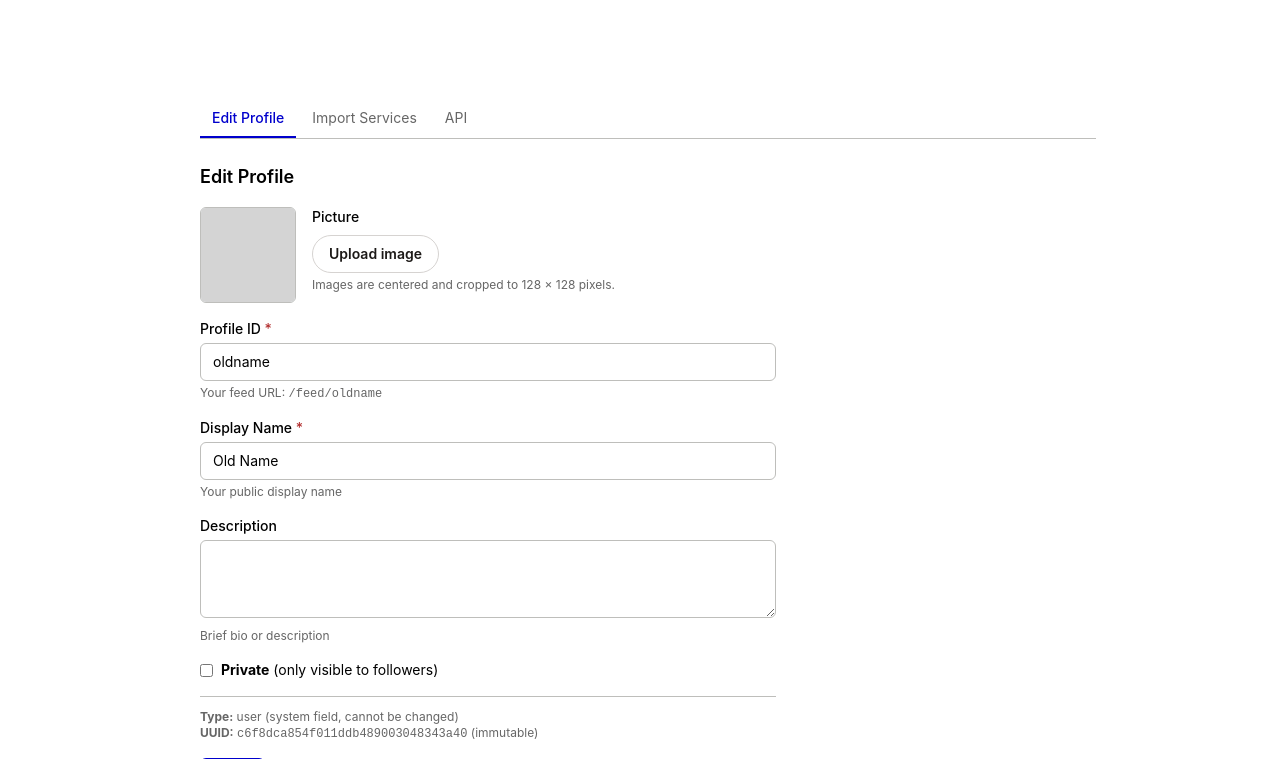
Test case: AccountApp › keeps saved profile values across tab switches
Replace the text in the field labelled "Profile ID *" with "newname" at (488, 362), box [200,343,776,381]
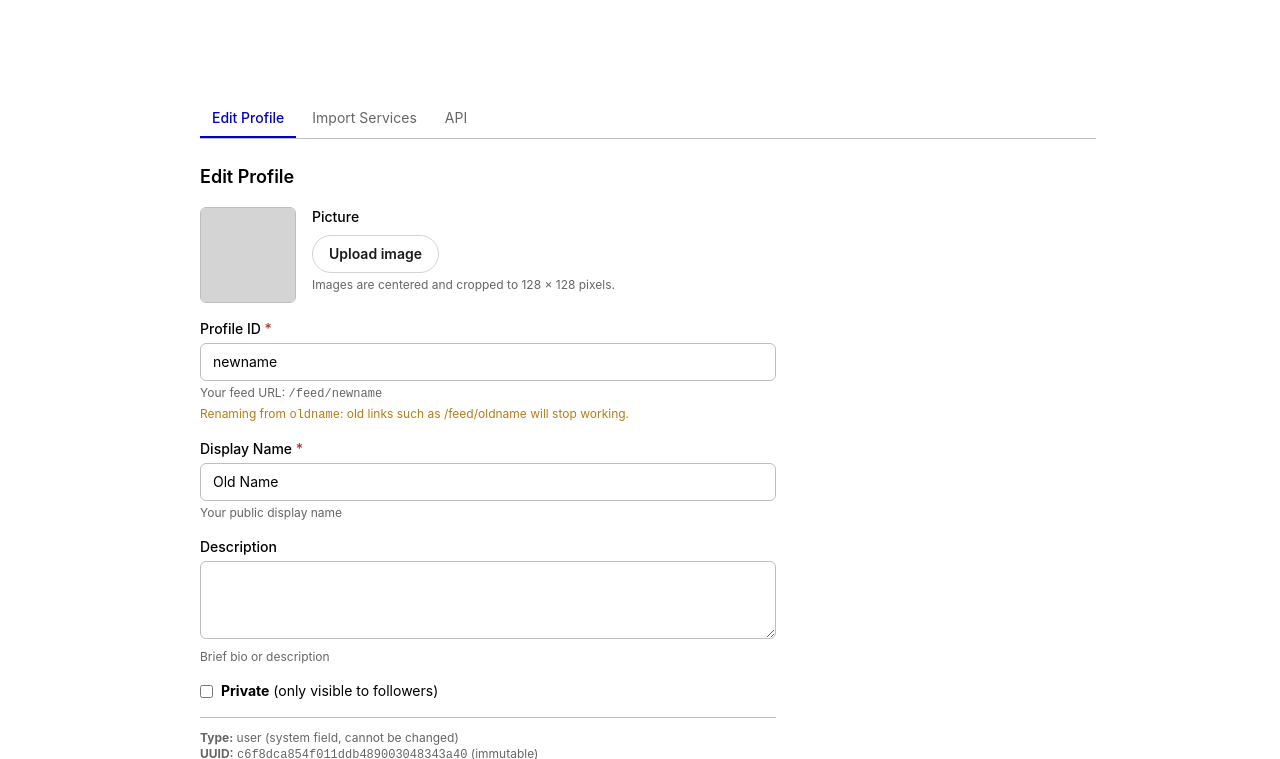
Replace the text in the field labelled "Display Name *" with "New Name" at (488, 482), box [200,463,776,501]
(page scrolled)
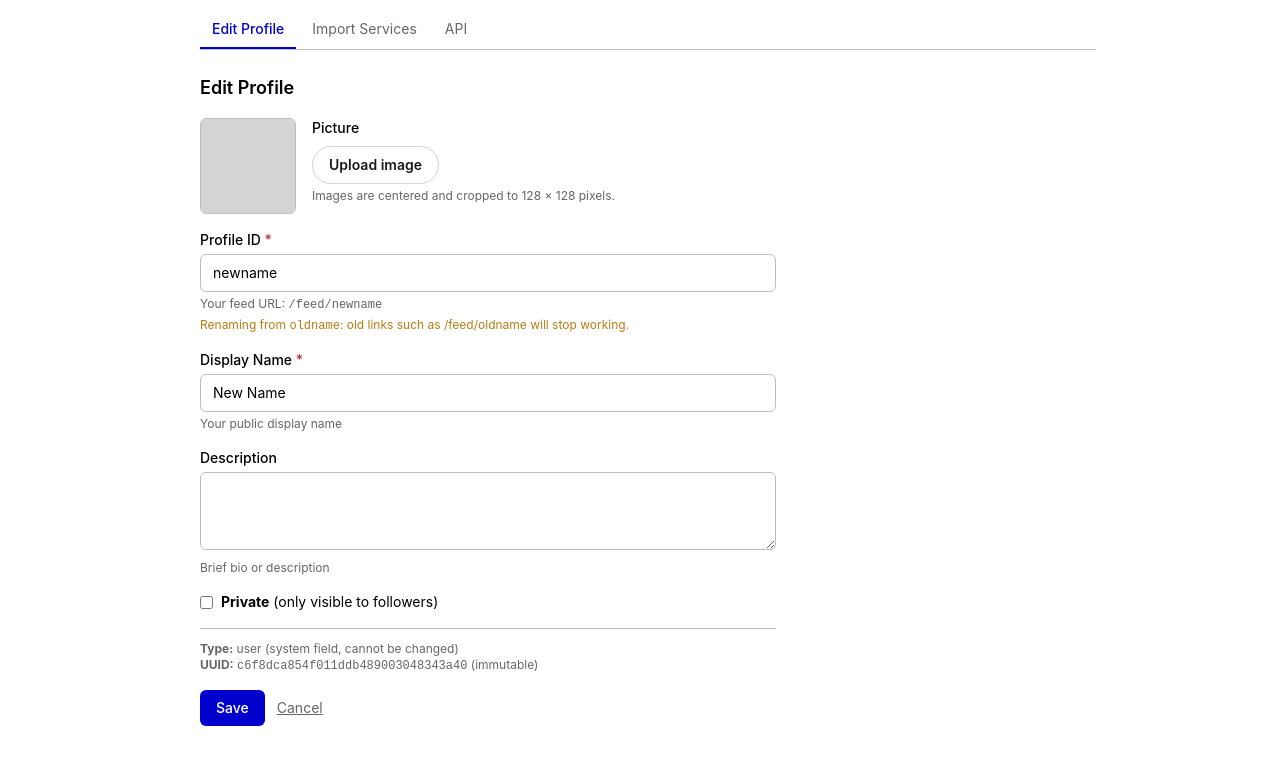
Submit the form, box [200,74,776,726]
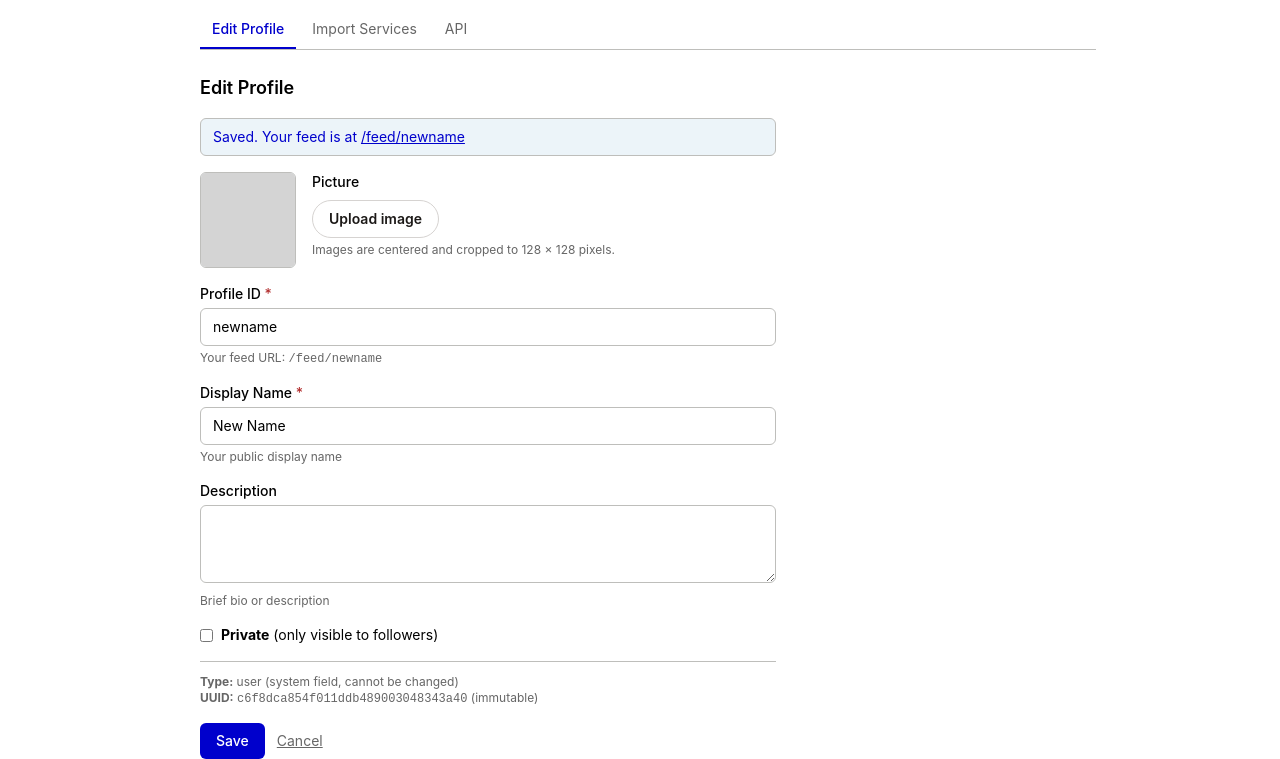
Check: the message "Saved. Your feed is at /feed/newname" is shown, box [200,118,776,156]
Click the link "Import Services" at (365, 28), box [312,20,417,37]
(page scrolled)
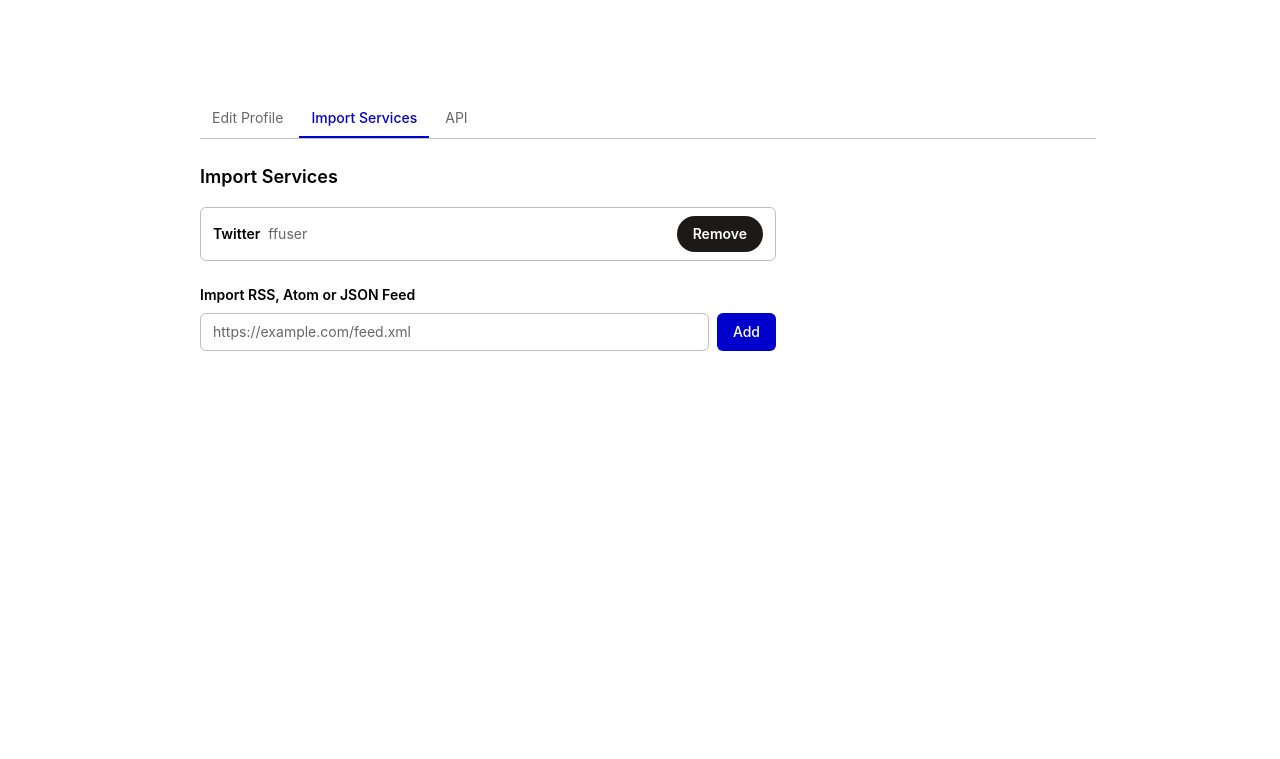
Click the link "Edit Profile" at (248, 118), box [212,109,283,126]
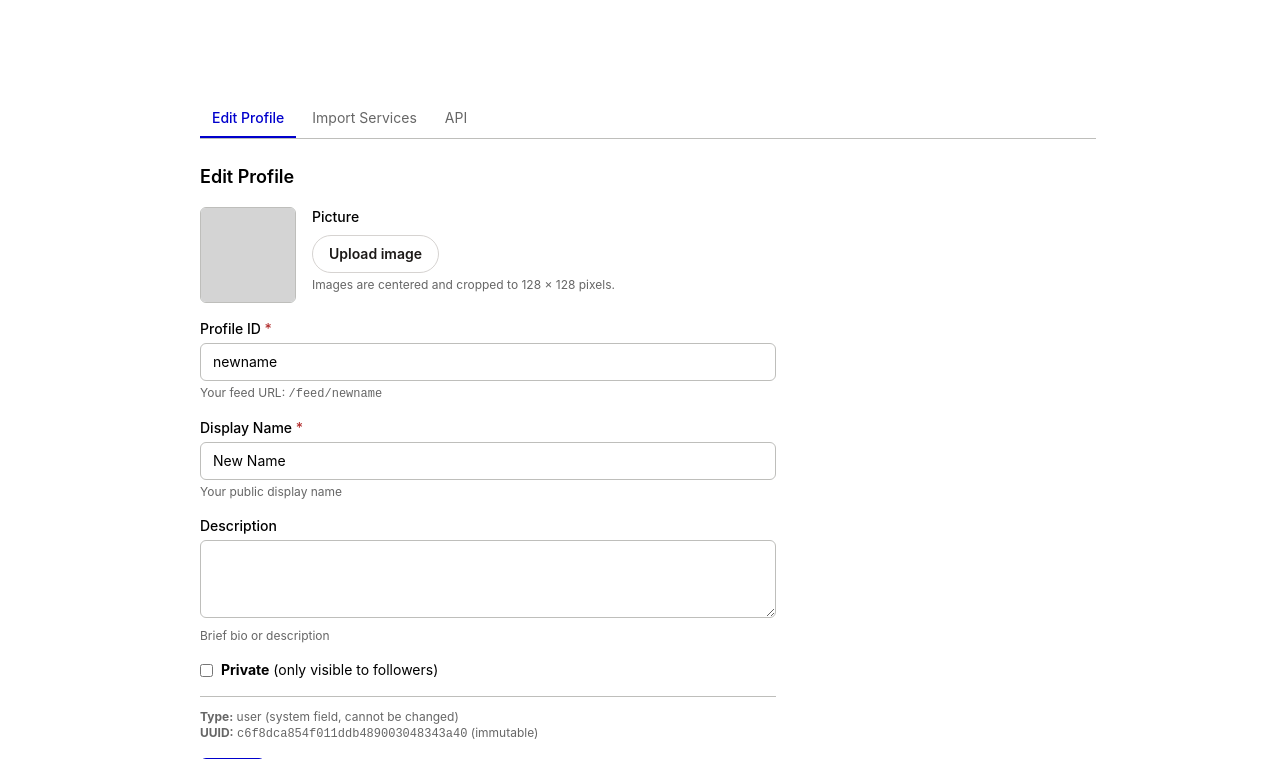
Check: the field labelled "Profile ID *" holds "newname", box [200,343,776,381]
Check: the field labelled "Display Name *" holds "New Name", box [200,442,776,480]
